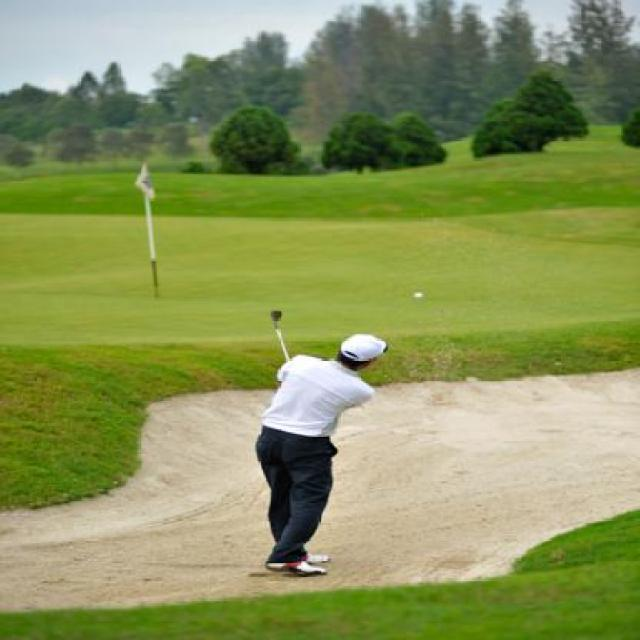golfball: (412, 290, 427, 302)
